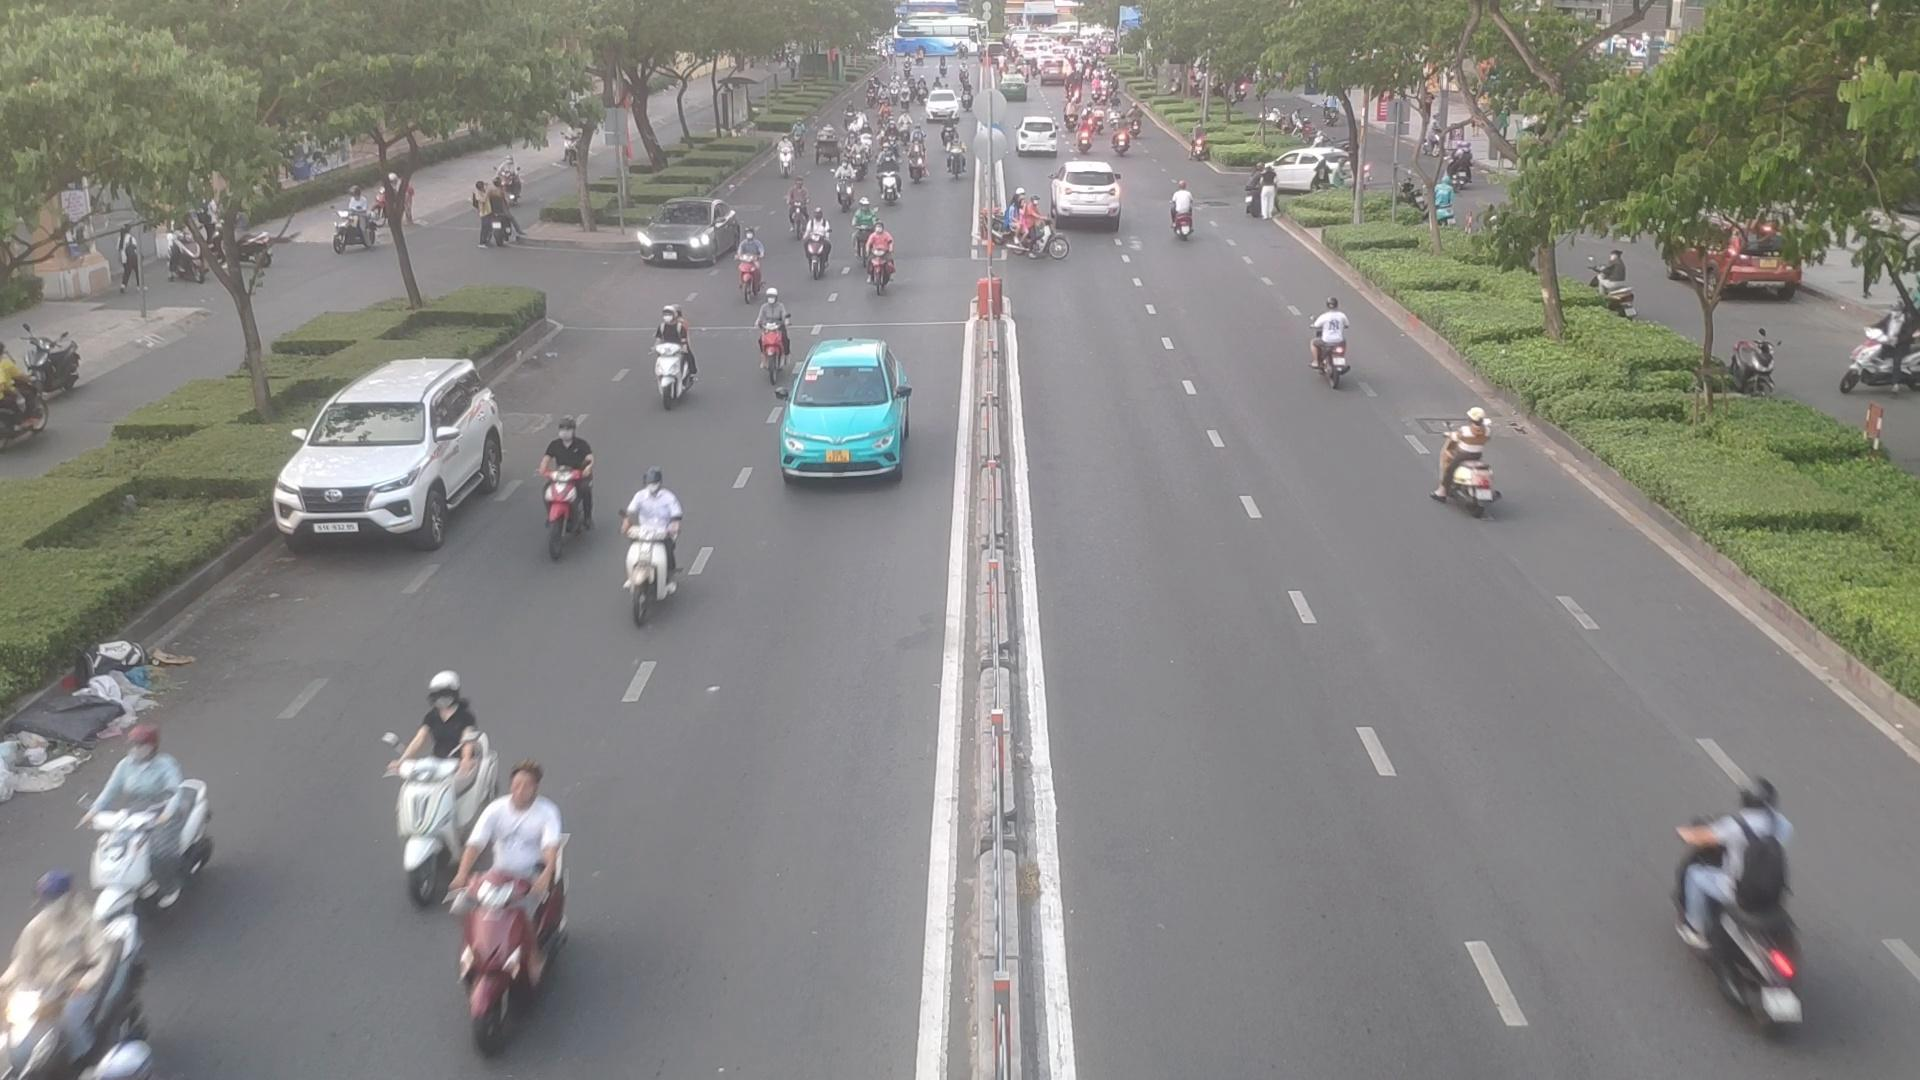car: (276, 360, 510, 553), (777, 338, 911, 483), (633, 202, 742, 269), (1058, 160, 1124, 219), (1270, 146, 1353, 189)
motorbike: (452, 761, 607, 1014), (365, 640, 491, 926), (0, 876, 160, 1080), (76, 717, 210, 919), (527, 413, 597, 555), (1425, 401, 1502, 520), (624, 447, 663, 655), (646, 307, 704, 407), (1002, 195, 1079, 262), (1313, 294, 1349, 392), (757, 285, 783, 382), (735, 223, 764, 301), (872, 144, 903, 212), (847, 200, 878, 265), (808, 200, 832, 284), (868, 224, 897, 290), (1172, 173, 1193, 241), (786, 175, 810, 235), (944, 132, 965, 181), (844, 137, 869, 177), (907, 135, 926, 185), (832, 160, 853, 202), (777, 124, 791, 174)
